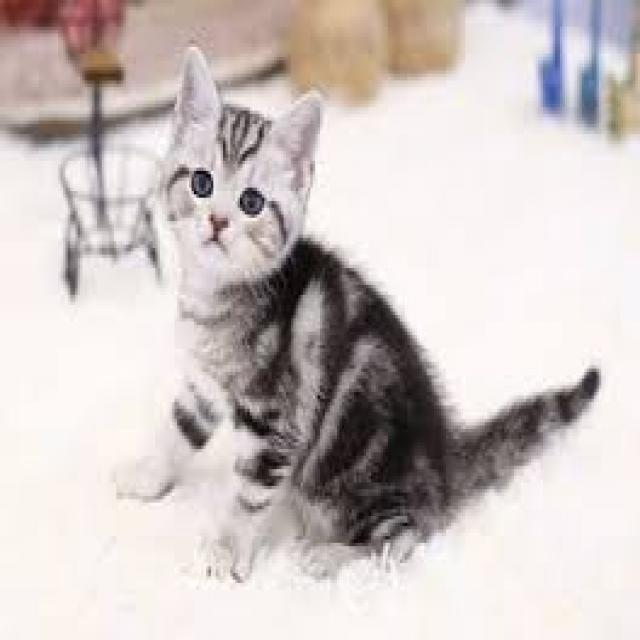cat-face: (134, 34, 368, 320)
